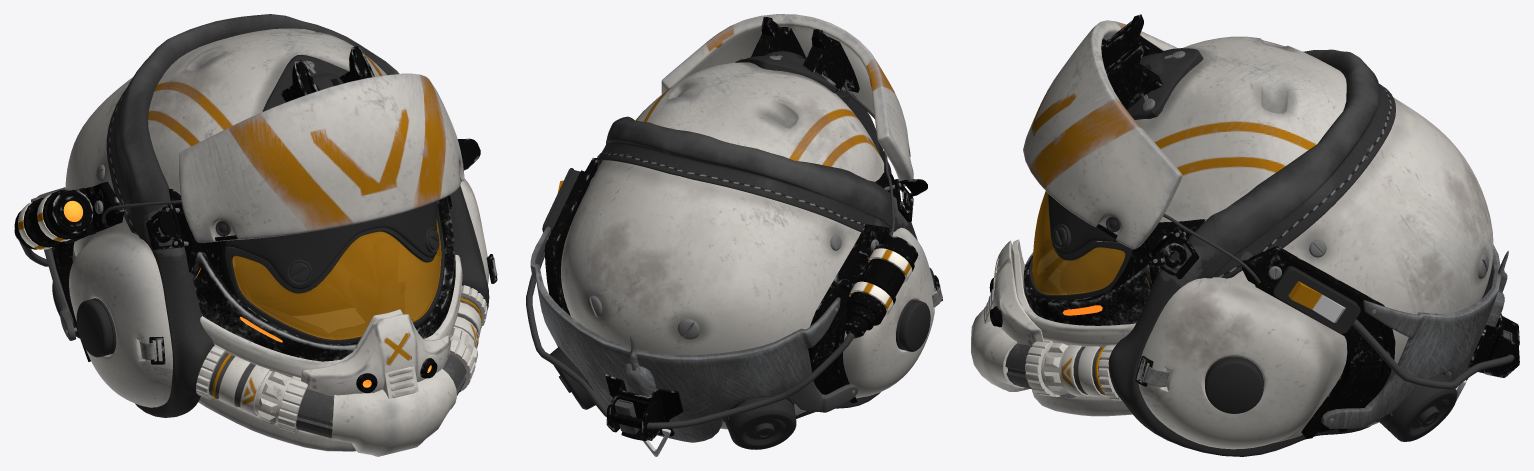
The picture shows the model from 3 angles, left to right: view 1: azimuth 30°, elevation 25°; view 2: azimuth 150°, elevation 25°; view 3: azimuth 270°, elevation 25°; orthographic projection. The views are drawn at different scales.
Parts seen in each view (by area): view 1: Visor_Cover_2_9, Leather_Cover_7, Head_Main_2_5, Visor_20, Head_Main_1_4, Mask_2_41, Mask_3_8, Face_1_13, Face_2_14, Mask_1_17, Visor_Cover_1_21, Tactical_Light_46 (+10 smaller); view 2: Head_Main_2_5, Back_Mount_12, Head_Main_1_4, Leather_Cover_7, Visor_Cover_2_9, Headgear_mount_2_32, Tactical_Light_46, Cylinders_28, Visor_Cover_Mount_51, Wire_1_52, Headset_Control_15, Antenna_Cover_23 (+9 smaller); view 3: Head_Main_2_5, Head_Main_1_4, Leather_Cover_7, Visor_Cover_2_9, Back_Mount_12, Headgear_mount_2_32, Visor_20, Mask_2_41, Face_2_14, Face_1_13, Visor_Cover_Mount_51, Light_Switch_40 (+12 smaller).
Part boxes in pixels (<box>): Visor_Cover_2_9: <box>179,73,464,242</box>; Leather_Cover_7: <box>106,14,489,417</box>; Head_Main_2_5: <box>65,77,488,407</box>; Visor_20: <box>225,203,444,344</box>; Head_Main_1_4: <box>148,28,446,298</box>; Mask_2_41: <box>196,285,487,438</box>; Mask_3_8: <box>331,369,456,456</box>; Face_1_13: <box>191,196,455,361</box>; Face_2_14: <box>198,254,462,451</box>; Mask_1_17: <box>301,314,450,396</box>; Visor_Cover_1_21: <box>225,201,437,289</box>; Tactical_Light_46: <box>14,189,93,249</box>; Head_Main_2_5: <box>561,160,935,429</box>; Back_Mount_12: <box>530,226,858,442</box>; Head_Main_1_4: <box>635,62,885,181</box>; Leather_Cover_7: <box>597,116,935,418</box>; Visor_Cover_2_9: <box>661,14,913,186</box>; Headgear_mount_2_32: <box>544,158,889,403</box>; Tactical_Light_46: <box>845,235,918,338</box>; Cylinders_28: <box>550,347,796,449</box>; Visor_Cover_Mount_51: <box>751,17,859,92</box>; Wire_1_52: <box>526,252,854,429</box>; Headset_Control_15: <box>896,299,930,351</box>; Antenna_Cover_23: <box>605,374,683,422</box>; Head_Main_2_5: <box>1138,97,1493,449</box>; Head_Main_1_4: <box>1110,36,1346,290</box>; Leather_Cover_7: <box>1108,49,1395,456</box>; Visor_Cover_2_9: <box>1023,20,1182,249</box>; Back_Mount_12: <box>1321,244,1501,428</box>; Headgear_mount_2_32: <box>1241,245,1395,439</box>; Visor_20: <box>1028,191,1132,300</box>; Mask_2_41: <box>1005,241,1121,400</box>; Face_2_14: <box>1011,239,1135,416</box>; Face_1_13: <box>1023,252,1152,325</box>; Visor_Cover_Mount_51: <box>1101,14,1163,109</box>; Light_Switch_40: <box>1273,266,1360,333</box>.
Bounding box in the file's own units: 0.3577 × 0.3228 × 0.4213.
